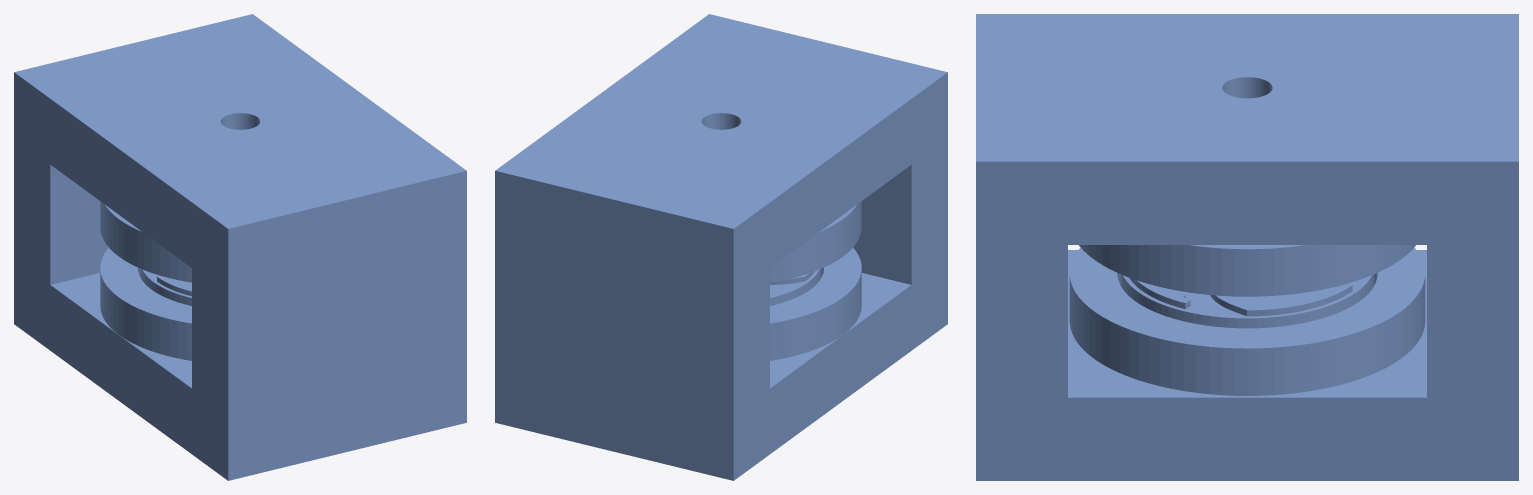
The model's file is index.glb.
3 renders of one model, left to right at view 1: azimuth 30°, elevation 25°; view 2: azimuth 150°, elevation 25°; view 3: azimuth 270°, elevation 25°, orthographic. The views are drawn at different scales.
Visible parts, largest first — view 1: aimanttest; view 2: aimanttest; view 3: aimanttest.
Boxes of the visible parts, <box> form: aimanttest: <box>14,14,466,480</box>; aimanttest: <box>495,14,947,480</box>; aimanttest: <box>976,14,1518,480</box>.
Bounding box in the file's own units: 1120 × 1110 × 1710.
